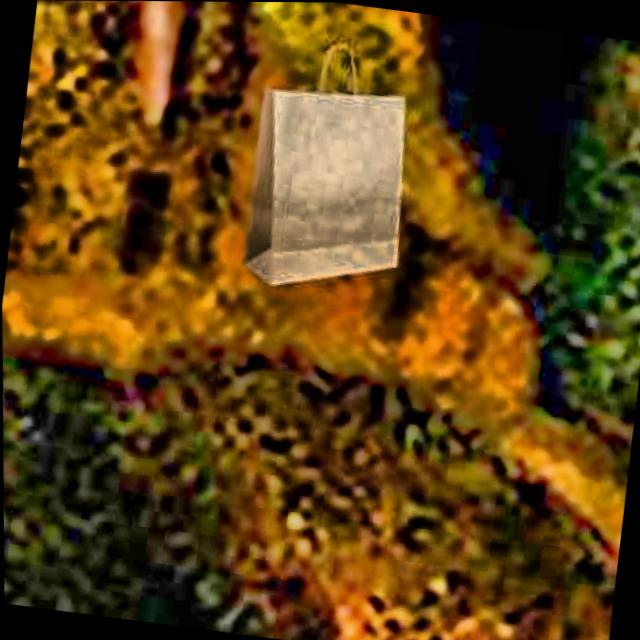Paper-bag: (237, 24, 445, 313)
